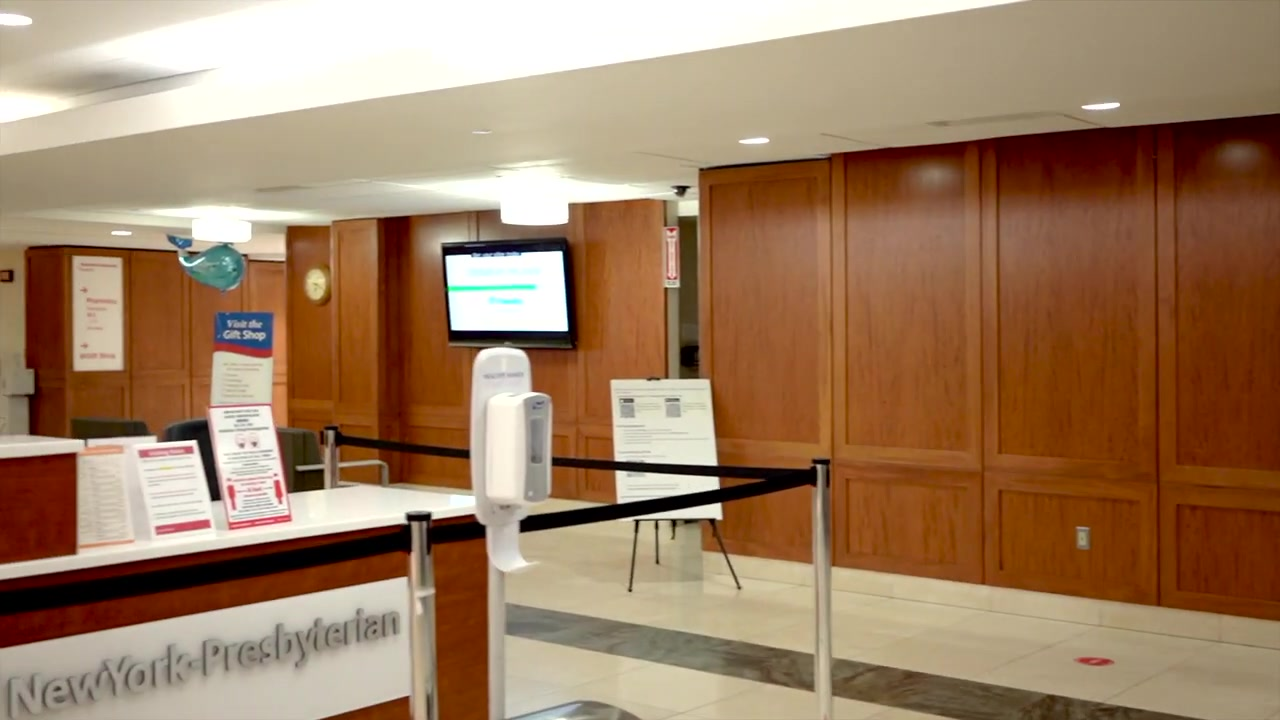TV: (444, 241, 569, 342)
counter: (1, 435, 498, 720)
countertop: (1, 484, 490, 578)
dispenser: (485, 389, 558, 579)
